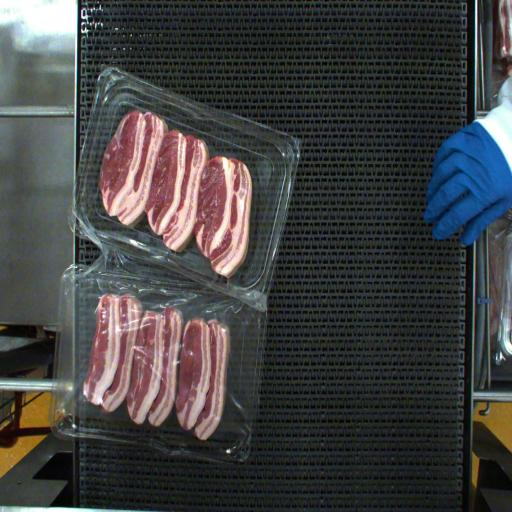unsealed: (63, 309, 236, 457)
